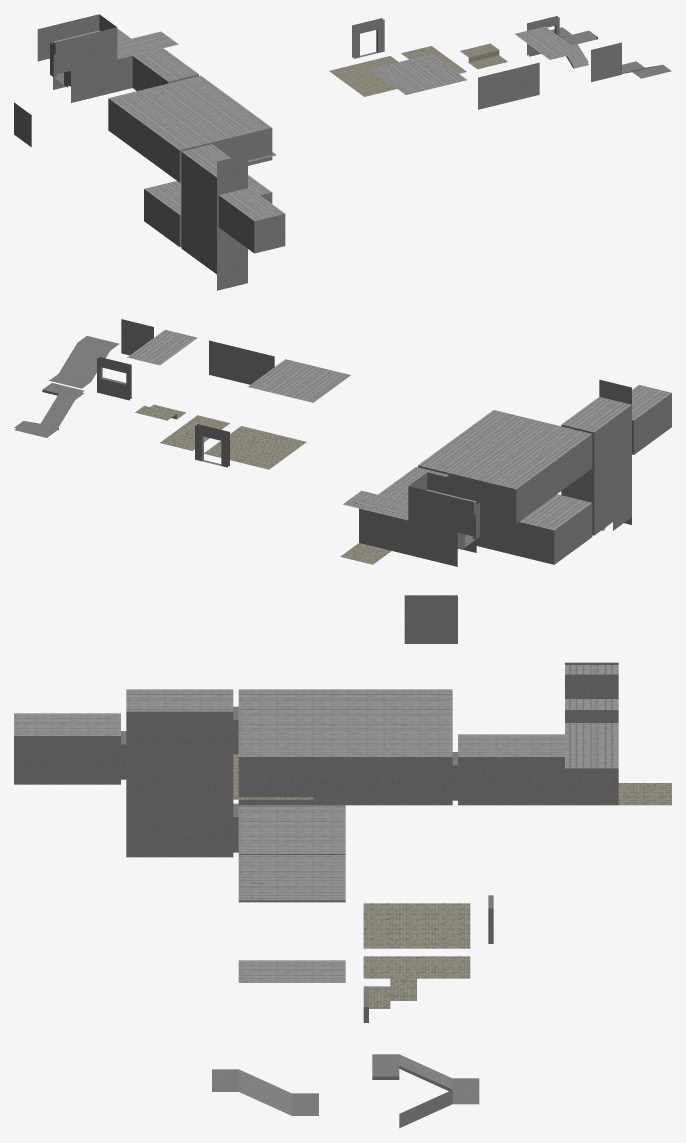
Rendered from room_archive.glb.
3 renders of one model, top to bottom at view 1: azimuth 30°, elevation 25°; view 2: azimuth 150°, elevation 25°; view 3: azimuth 270°, elevation 25°, orthographic. The views are drawn at different scales.
Visible parts, largest first — view 1: ceiling.001, ceiling.004, ceiling.012, wall.029, wall.045, wall.024, floor.014, wall.007, wall.034, wall.014, wall.005, wall.019 (+25 smaller); view 2: ceiling.004, ceiling.001, ceiling.012, floor.014, wall.034, wall.022, wall.020, wall.045, stairs.003, stairs.004, wall.029, wall.019 (+27 smaller); view 3: wall.038, wall.036, wall.037, wall.009, wall.015, wall.008, floor.014, ceiling.004, ceiling.003, ceiling.001, ceiling.012, wall.021 (+16 smaller).
Part boxes in pixels (x1,y1,x2,y2): ceiling.001: (139, 75, 235, 116); ceiling.004: (175, 101, 271, 142); ceiling.012: (370, 54, 466, 94); wall.029: (55, 27, 117, 74); wall.045: (478, 62, 539, 109); wall.024: (71, 56, 132, 102); floor.014: (329, 56, 398, 96); wall.007: (210, 128, 272, 165); wall.034: (37, 14, 99, 61); wall.014: (218, 195, 254, 252); wall.005: (108, 98, 143, 156); wall.019: (144, 189, 179, 246); ceiling.004: (456, 410, 558, 453); ceiling.001: (418, 438, 520, 481); ceiling.012: (248, 359, 350, 402); floor.014: (204, 426, 306, 469); wall.034: (408, 486, 473, 536); wall.022: (392, 516, 457, 566); wall.020: (488, 518, 554, 564); wall.045: (209, 340, 274, 384); stairs.003: (49, 336, 119, 388); stairs.004: (14, 383, 84, 437); wall.029: (427, 472, 492, 522); wall.019: (554, 503, 592, 564); wall.038: (126, 711, 233, 760); wall.036: (126, 808, 233, 857); wall.037: (126, 760, 233, 808); wall.009: (345, 757, 452, 805); wall.015: (14, 736, 120, 784); wall.008: (238, 757, 345, 805); floor.014: (363, 903, 470, 948); ceiling.004: (238, 711, 345, 756); ceiling.003: (238, 808, 345, 853); ceiling.001: (345, 711, 452, 756); ceiling.012: (238, 855, 345, 900); wall.021: (511, 757, 618, 805).
Bounding box in the file's own units: 56 × 13.5 × 36.9.
6 materials, 6 textured.
